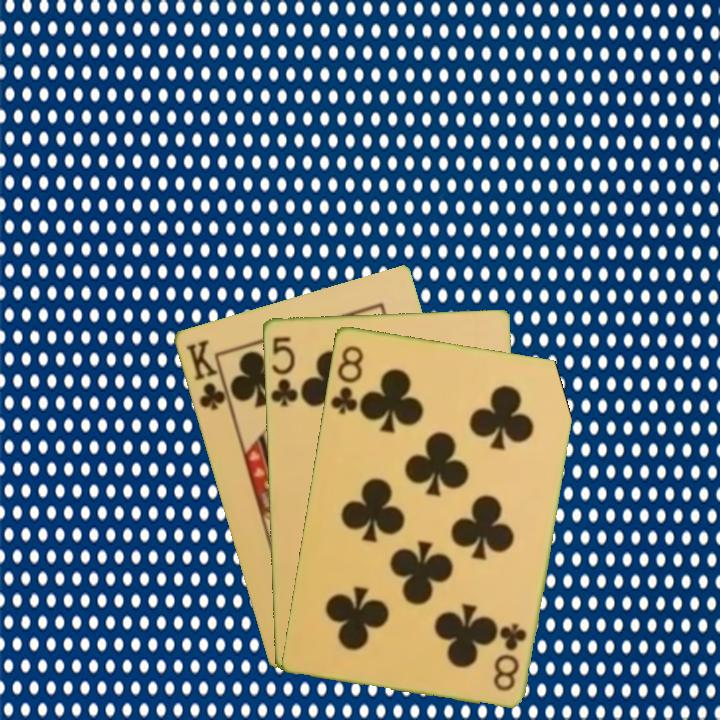5c: (267, 333, 301, 409)
8c: (326, 341, 366, 417), (489, 619, 529, 694)
Kc: (181, 336, 233, 413)
